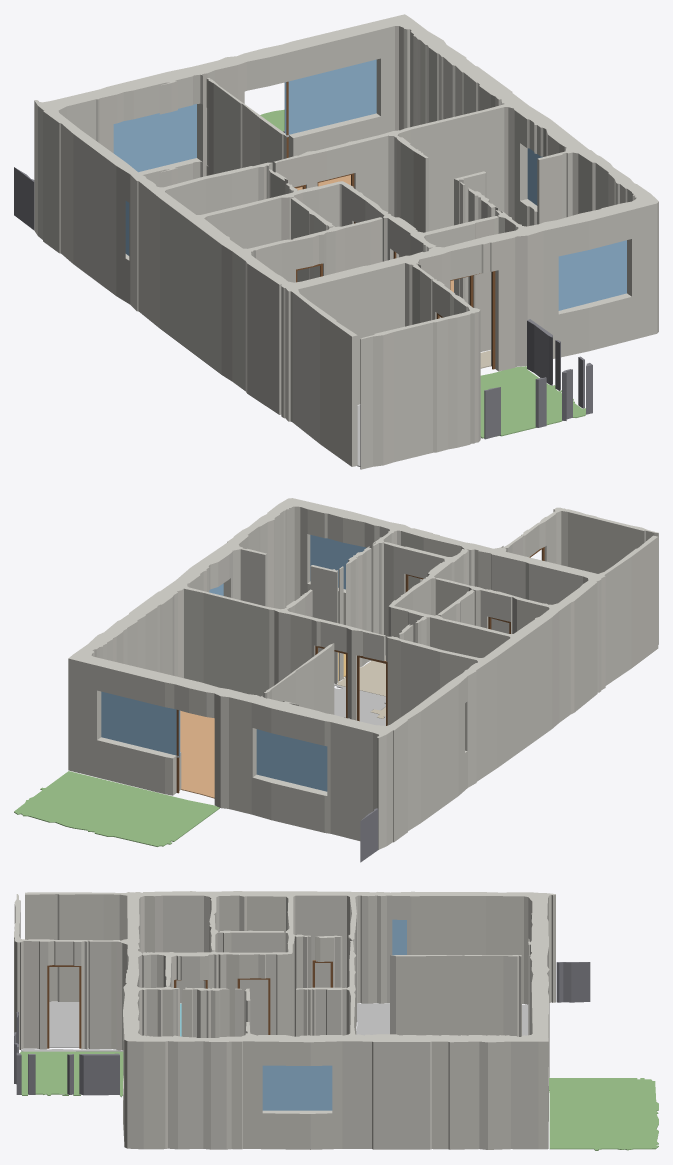
3 renders of one model, top to bottom at view 1: azimuth 30°, elevation 25°; view 2: azimuth 150°, elevation 25°; view 3: azimuth 270°, elevation 25°, orthographic. The views are drawn at different scales.
Visible parts, largest first — view 1: walls, railings, window_11, window_10, window_14, floor_0_Outdoor; view 2: walls, floor_1_Outdoor, window_11, window_10, floor_4_Living_Room, window_14, floor_16_Undefined, floor_10_Entry, railings; view 3: walls, floor_1_Outdoor, railings, window_13, floor_0_Outdoor, floor_13_Storage, floor_6_Bed_Room, door_9, window_12.
Part boxes in pixels (x1=…): walls: x1=34, y1=14, x2=658, y2=469; railings: x1=14, y1=167, x2=592, y2=439; window_11: x1=284, y1=59, x2=376, y2=134; window_10: x1=113, y1=104, x2=196, y2=172; window_14: x1=558, y1=240, x2=626, y2=310; floor_0_Outdoor: x1=480, y1=366, x2=585, y2=438; walls: x1=68, y1=498, x2=658, y2=849; floor_1_Outdoor: x1=14, y1=771, x2=219, y2=846; window_11: x1=101, y1=691, x2=180, y2=756; window_10: x1=256, y1=729, x2=327, y2=791; floor_4_Living_Room: x1=180, y1=710, x2=214, y2=798; window_14: x1=310, y1=535, x2=366, y2=589; floor_16_Undefined: x1=334, y1=684, x2=385, y2=725; floor_10_Entry: x1=335, y1=656, x2=385, y2=718; railings: x1=360, y1=808, x2=378, y2=862; walls: x1=14, y1=891, x2=555, y2=1149; floor_1_Outdoor: x1=549, y1=1078, x2=658, y2=1150; railings: x1=14, y1=962, x2=590, y2=1095; window_13: x1=262, y1=1065, x2=332, y2=1110; floor_0_Outdoor: x1=20, y1=1051, x2=123, y2=1097; floor_13_Storage: x1=49, y1=1002, x2=79, y2=1047; floor_6_Bed_Room: x1=356, y1=1003, x2=528, y2=1035; door_9: x1=47, y1=965, x2=81, y2=1048; window_12: x1=392, y1=919, x2=406, y2=955.
Bounding box in the file's own units: 8.15 × 2.72 × 14.67.
